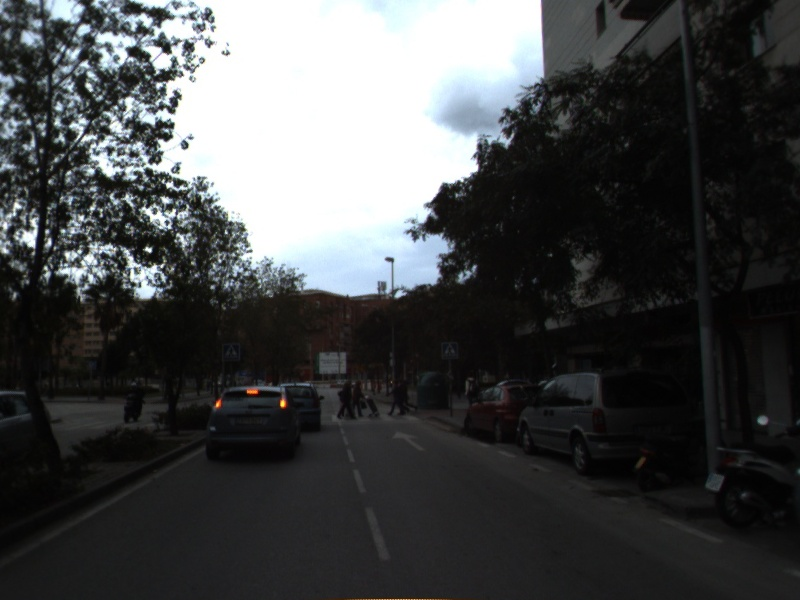STRAIGHT: (389, 429, 429, 453)
